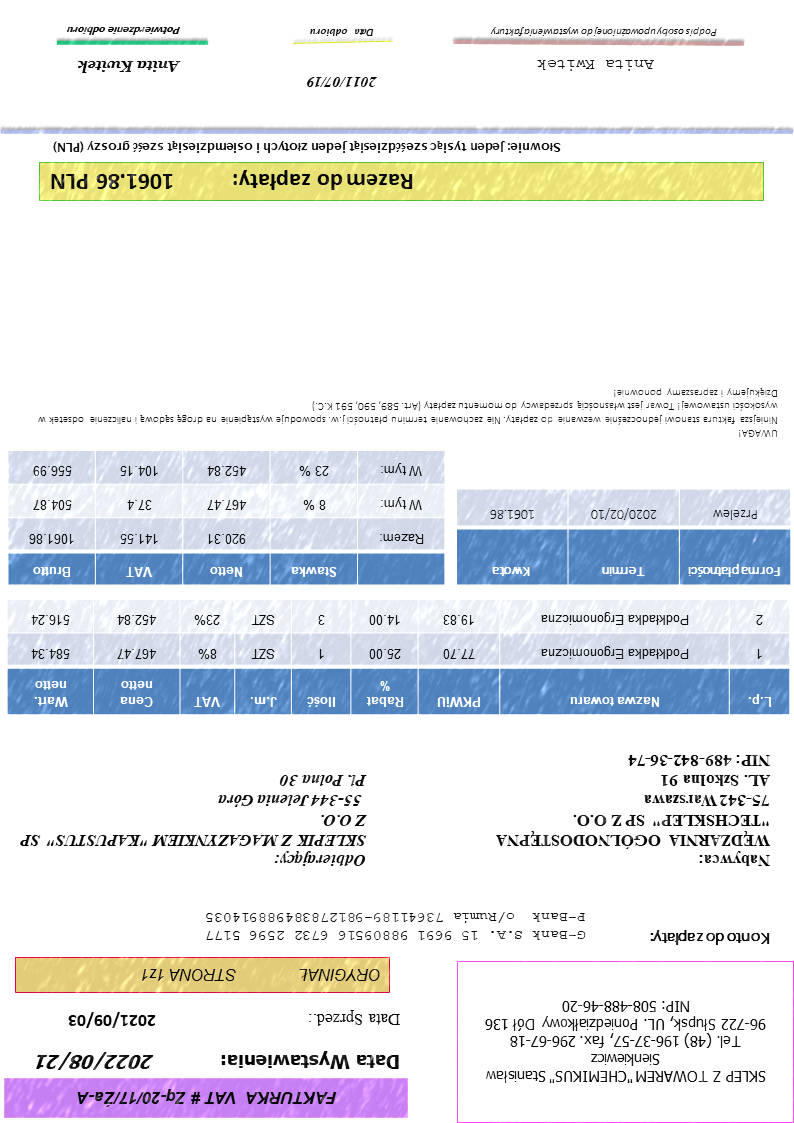Table: (6, 595, 792, 719), (7, 449, 449, 586), (453, 487, 792, 588)
TextBox: (34, 385, 781, 443), (18, 768, 371, 869), (490, 748, 775, 871), (479, 995, 774, 1089), (201, 909, 593, 944), (51, 138, 565, 159), (47, 170, 417, 197), (70, 1086, 343, 1113), (139, 964, 383, 986), (217, 1048, 404, 1074), (486, 25, 722, 40), (33, 1051, 155, 1076), (647, 927, 776, 949), (304, 1009, 406, 1030), (538, 57, 657, 74), (73, 58, 185, 76), (65, 1010, 159, 1029), (62, 23, 183, 37), (302, 74, 379, 91), (304, 26, 376, 40)
